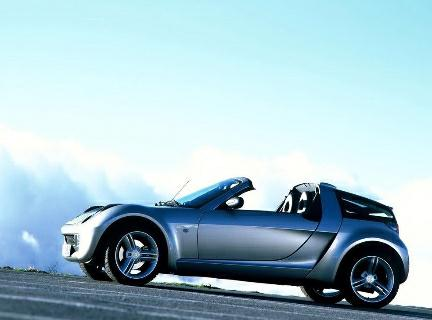smart-roadster: (52, 167, 406, 305)
